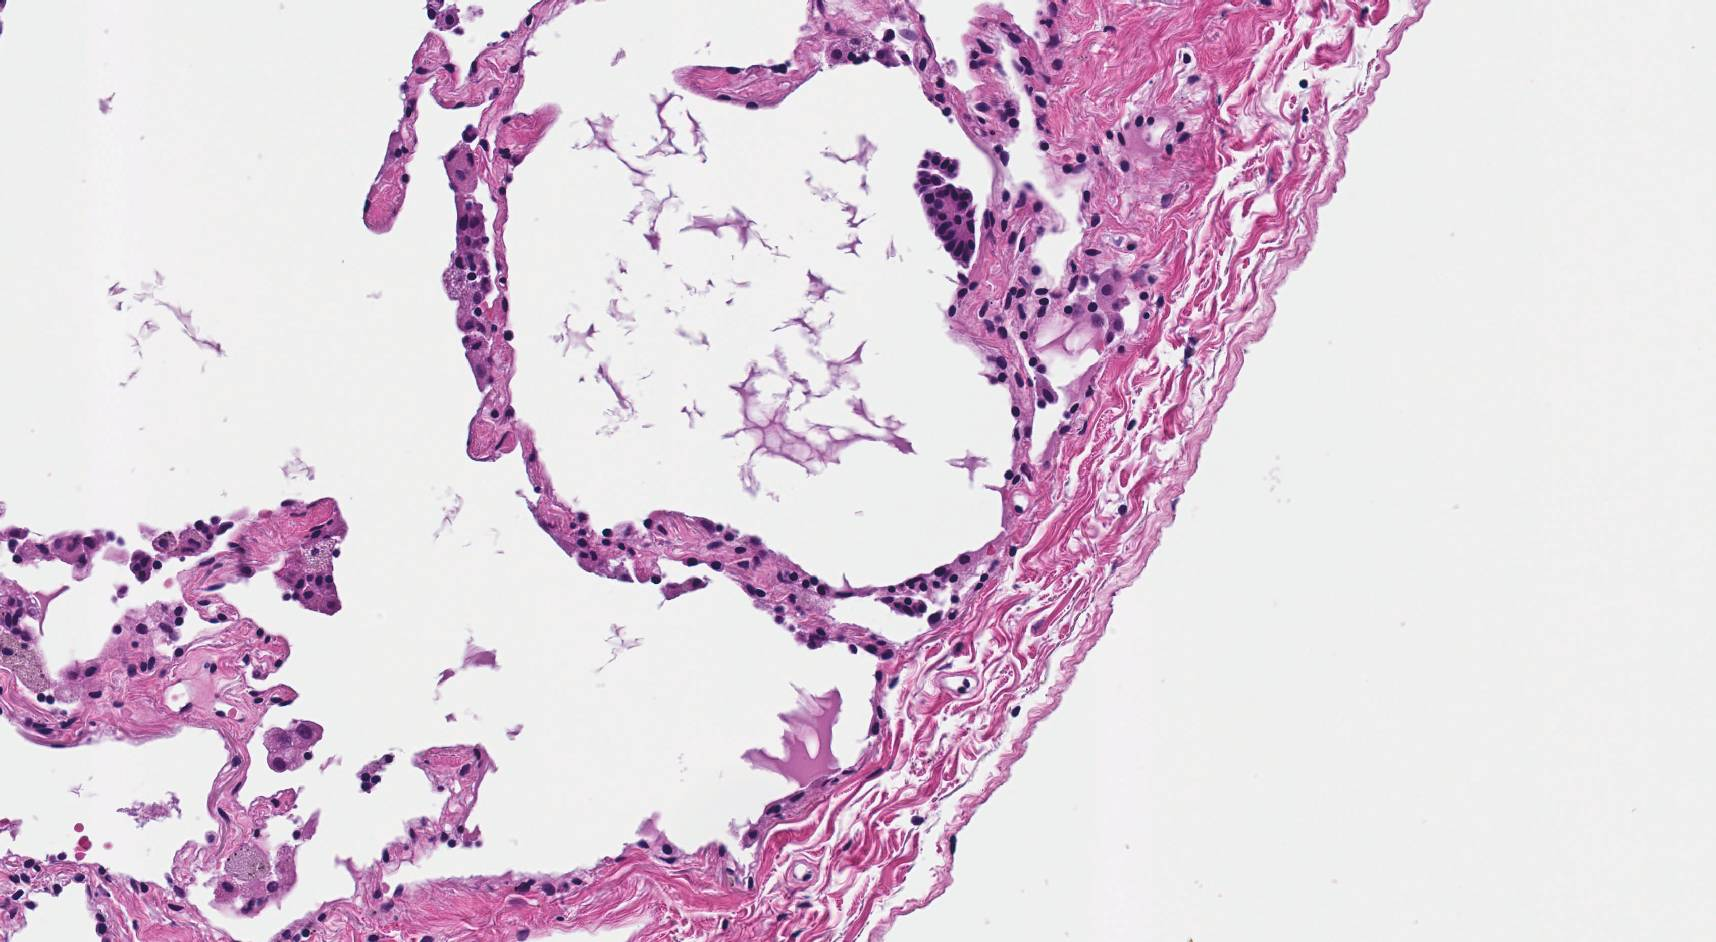stas: (914, 148, 977, 268)
